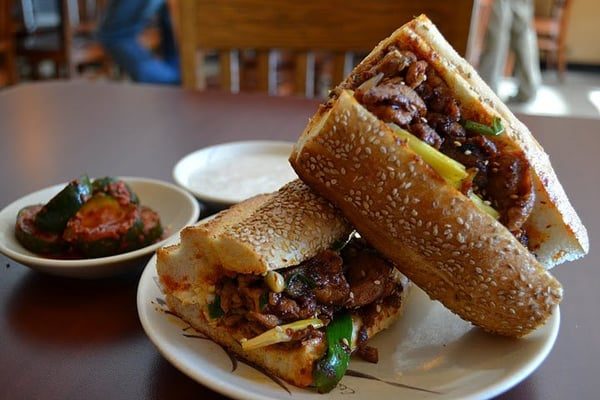soup: (287, 13, 589, 339), (154, 176, 409, 392)
sushi: (0, 172, 200, 282)
